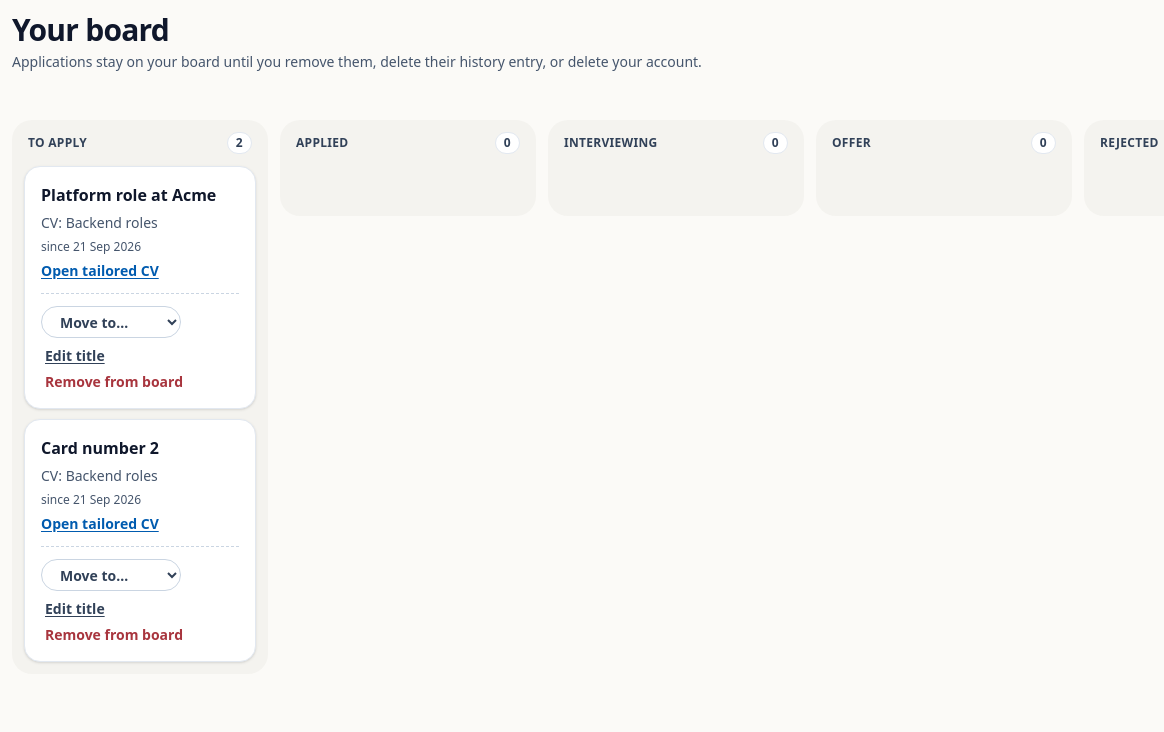
Test: A refused move rolls back with its own copy (AC-34) › 404: the card is removed, with "no longer on your board"
The image size is (1164, 732).
Expected: the text "Platform role at Acme" is shown, [41,183,239,207]
Select "Interviewing" in the dropdown named "move to" below "Platform role at Acme" at {"x": 111, "y": 322}, box [41,306,181,338]
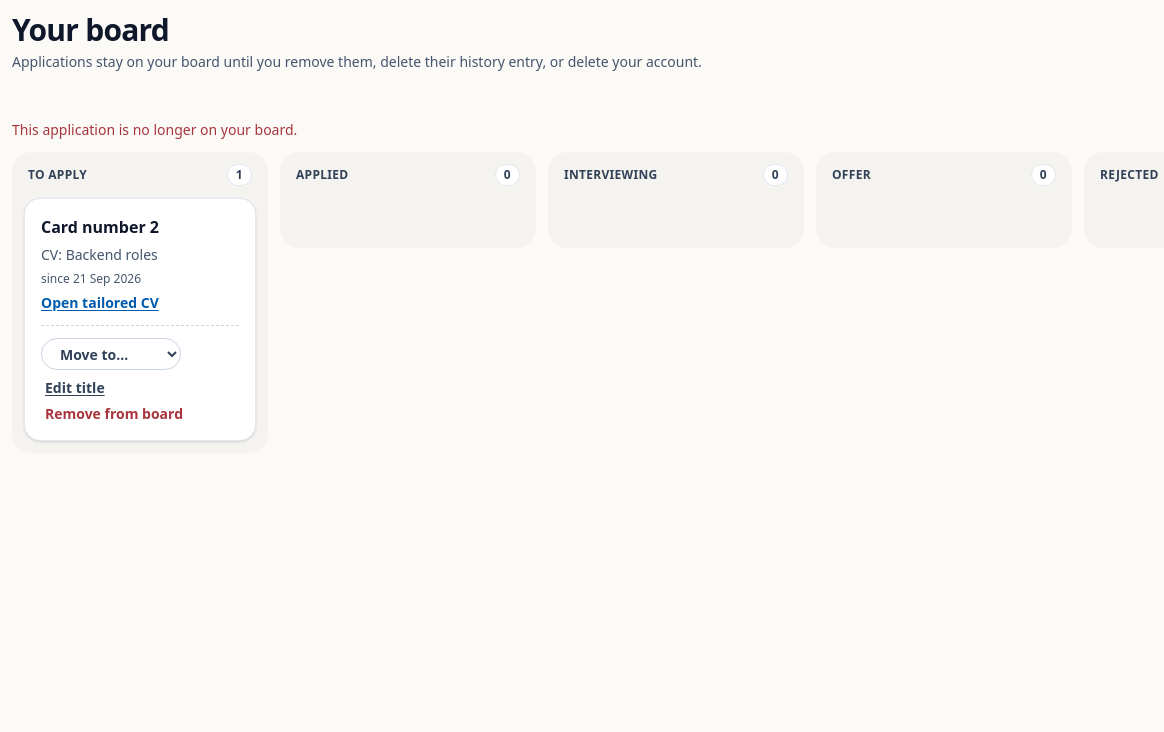
Expected: the text "Card number 2" is shown, [41,216,159,238]
Expected: the message reads "This application is no longer on your board.", [12,120,297,139]
Expected: the text "Platform role at Acme" is gone
